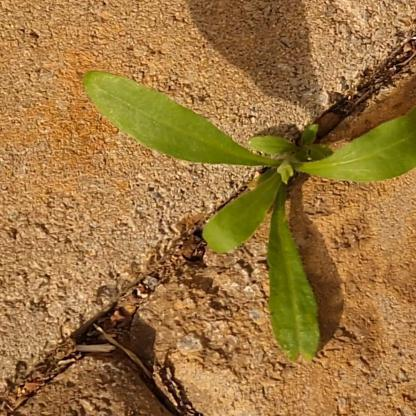Weeds: (84, 69, 415, 367)
